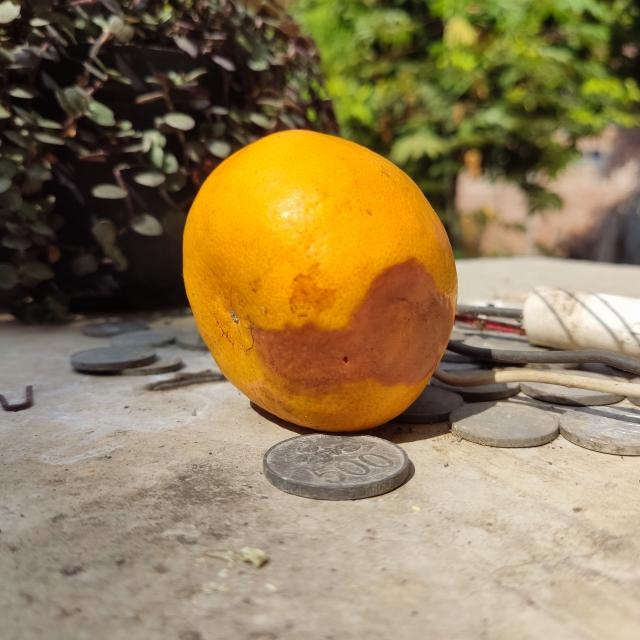agrume: (183, 128, 457, 433)
